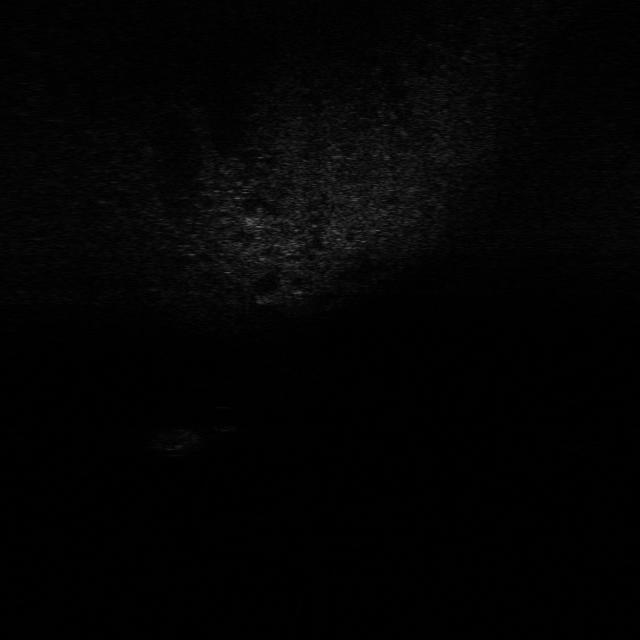ball: (209, 402, 253, 434)
circle cage: (140, 424, 210, 458)
